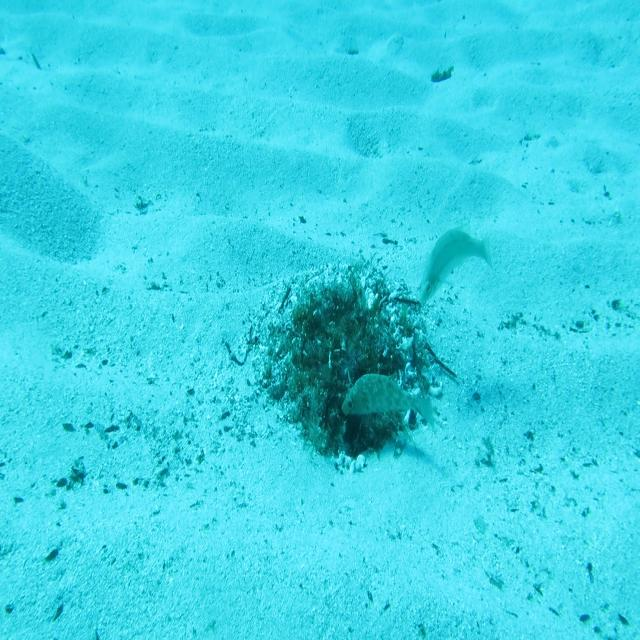NIP_IN: (340, 368, 436, 432)
core_nest: (315, 311, 373, 364)
nest: (231, 246, 448, 482)
vegetation: (430, 64, 455, 87)
